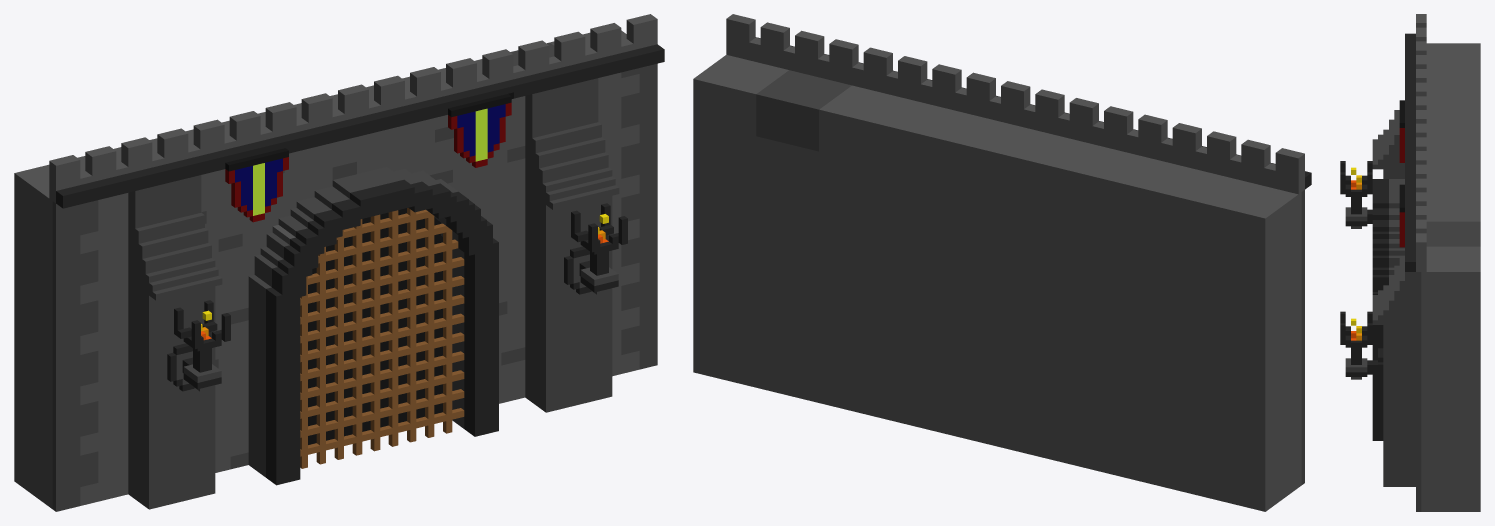
Rendered from CastlePrefab.obj.
The picture shows the model from 3 angles, left to right: view 1: azimuth 30°, elevation 25°; view 2: azimuth 150°, elevation 25°; view 3: azimuth 270°, elevation 25°; orthographic projection. The views are drawn at different scales.
Size of the model in its own units: 10 by 5.5 by 2.6.
Materials: 1 (1 with a texture image).
